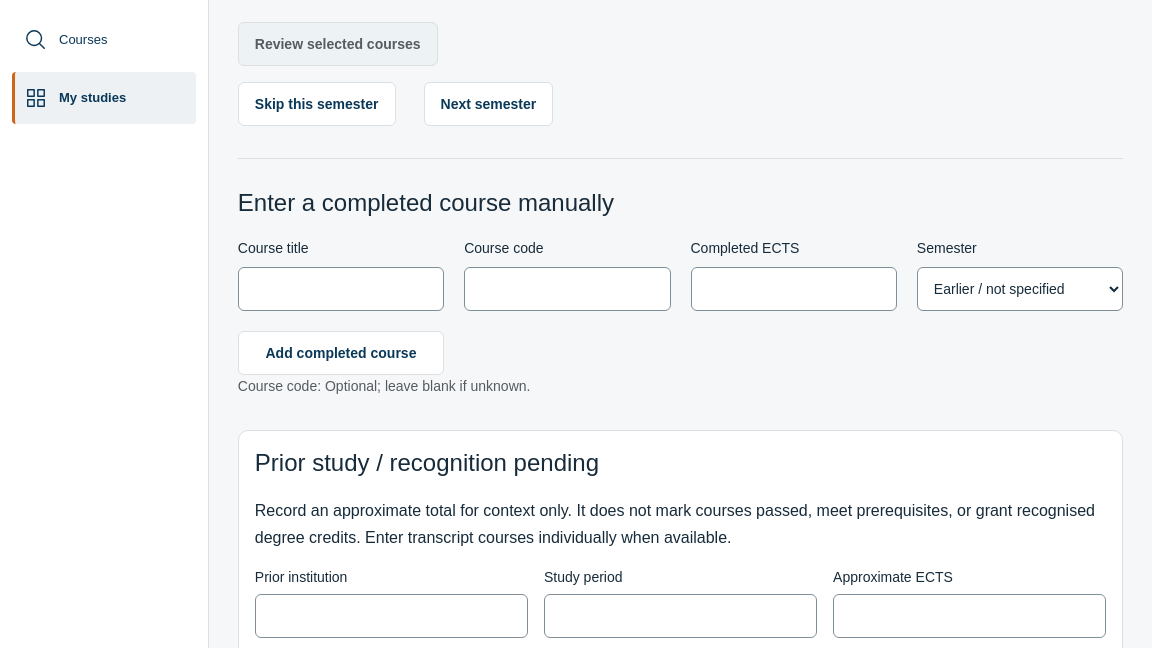
Test: requires explicit manual completion of an existing code and prevents double credit
This screenshot has width=1152, height=648.
(page scrolled)
Type "Passed existing" into the field labelled "Course title". click: {"x": 341, "y": 289}
box: 238,267 -> 444,311
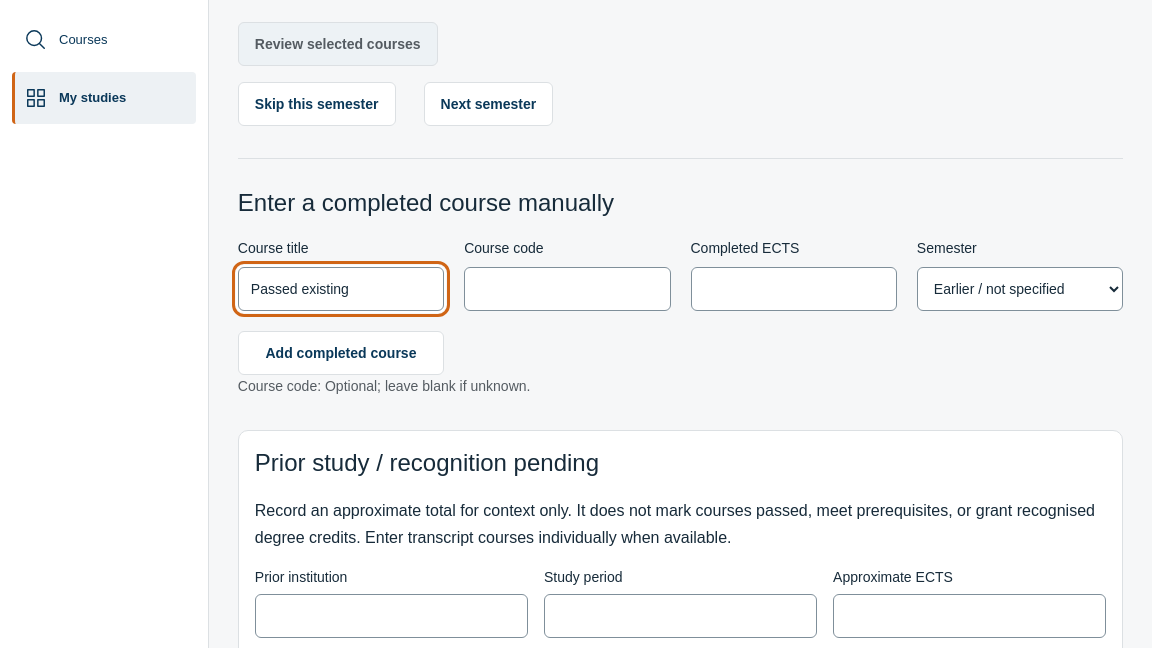
Type "UE-SIN.001" into the field labelled "Course code". click: {"x": 567, "y": 289}
box: 464,267 -> 670,311
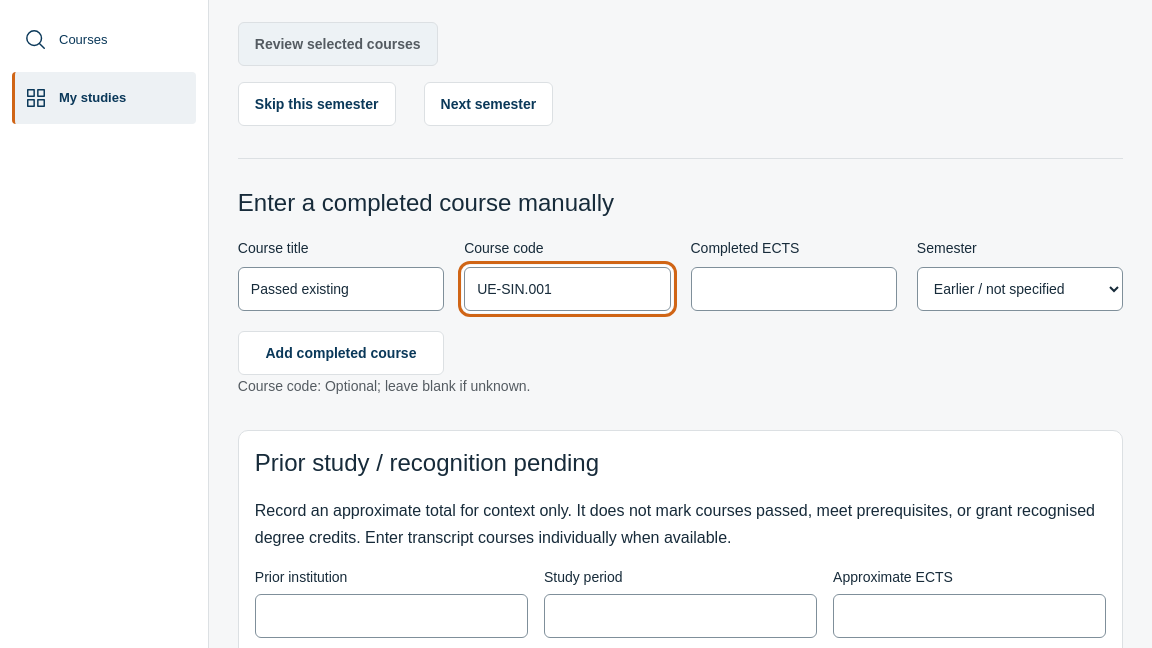
Type "5" into the number field labelled "Completed ECTS". click: {"x": 794, "y": 289}
box: 690,267 -> 897,311
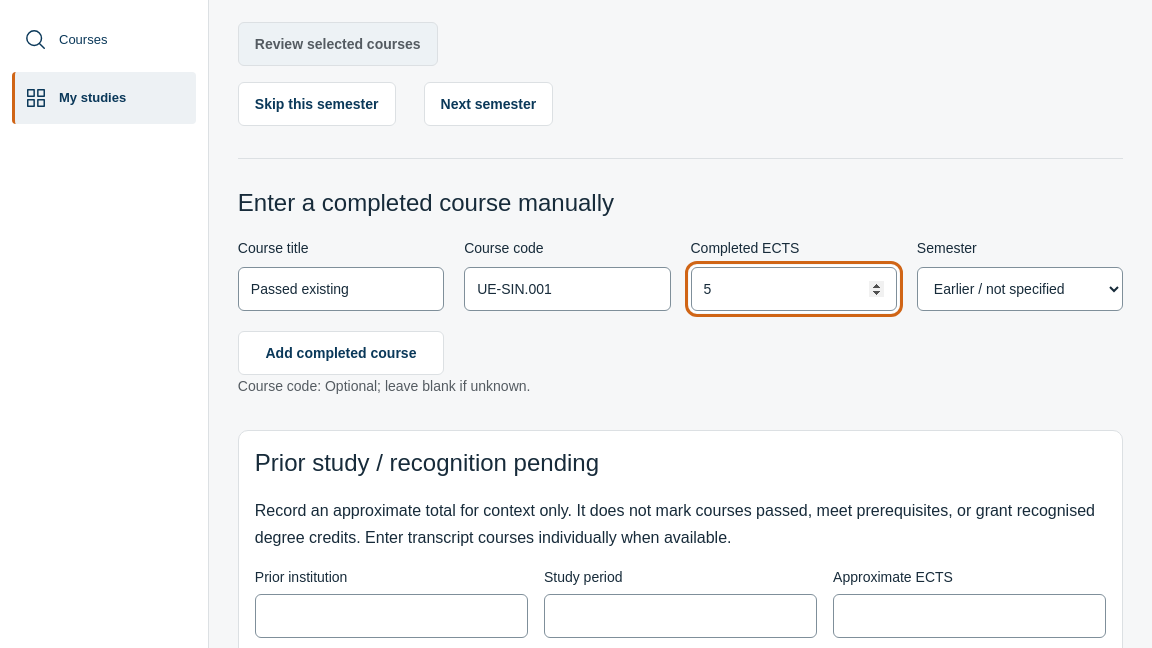
Click the button "Add completed course". click: {"x": 341, "y": 353}
box: 238,331 -> 444,375
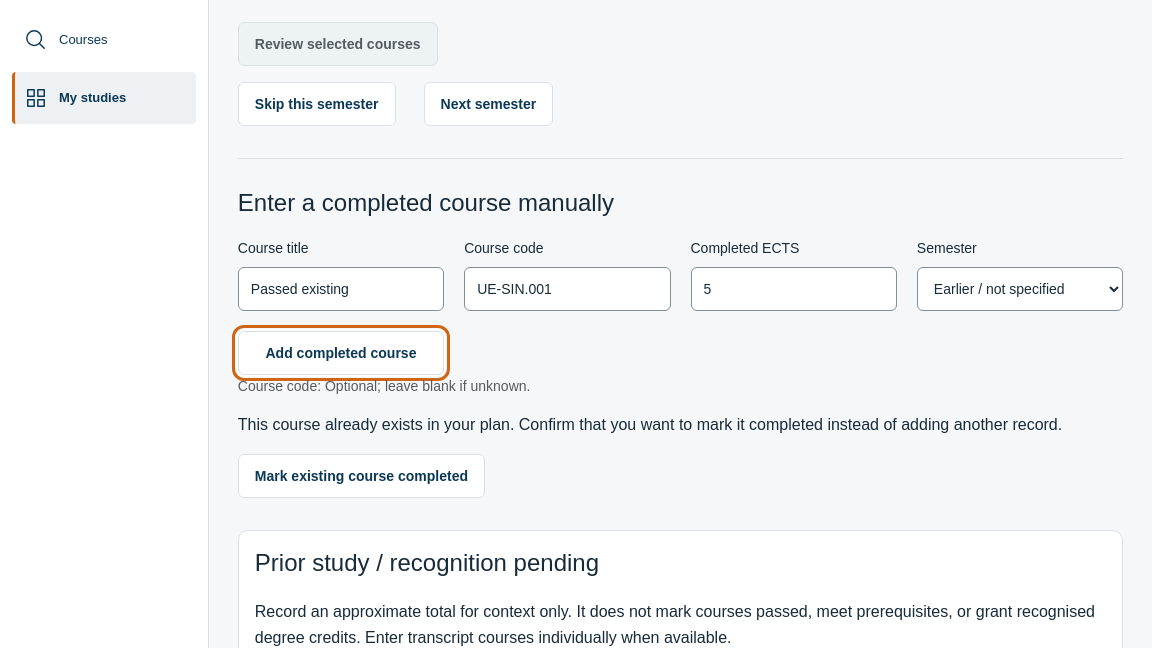
Click the button "Mark existing course completed". click: {"x": 361, "y": 476}
box: 238,454 -> 485,498
(page scrolled)
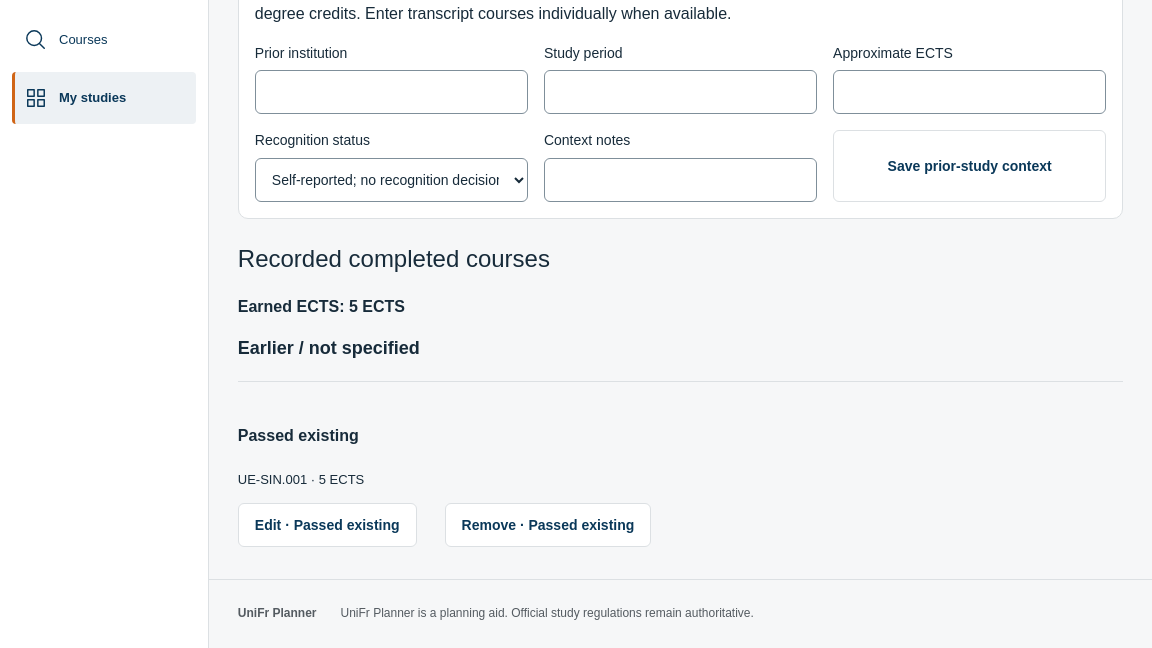
expect the text "Earned ECTS: 5 ECTS" is shown: met, box 238,298 -> 405,315
